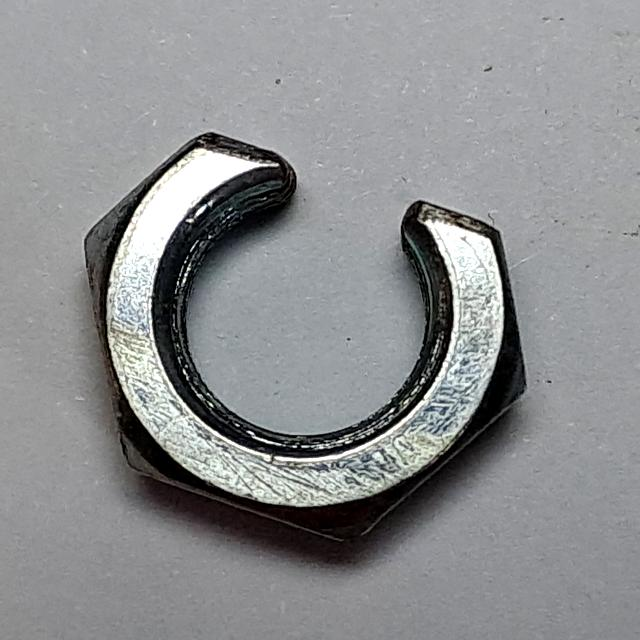Fracture: (72, 120, 541, 569)
